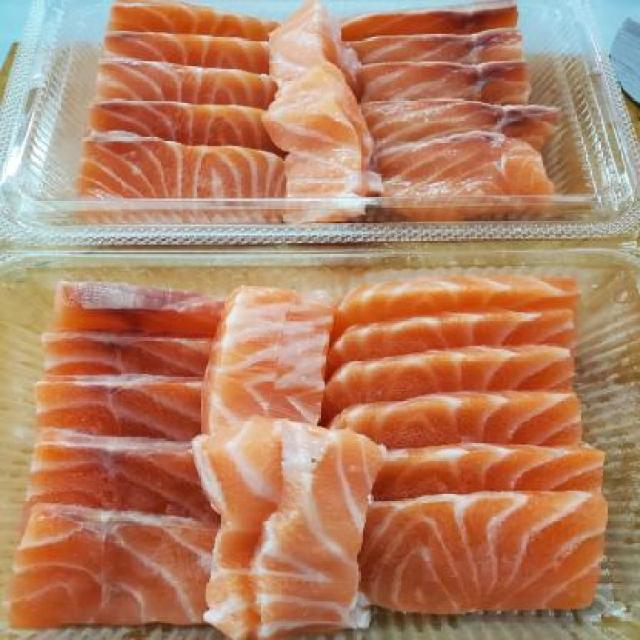salmon: (28, 267, 614, 628), (74, 3, 578, 233)
